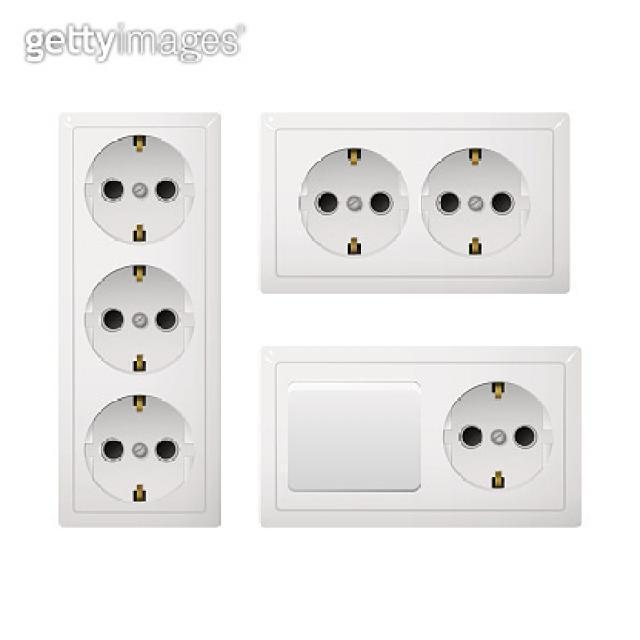typeb: (33, 94, 236, 564), (240, 329, 605, 549), (240, 101, 582, 298)
